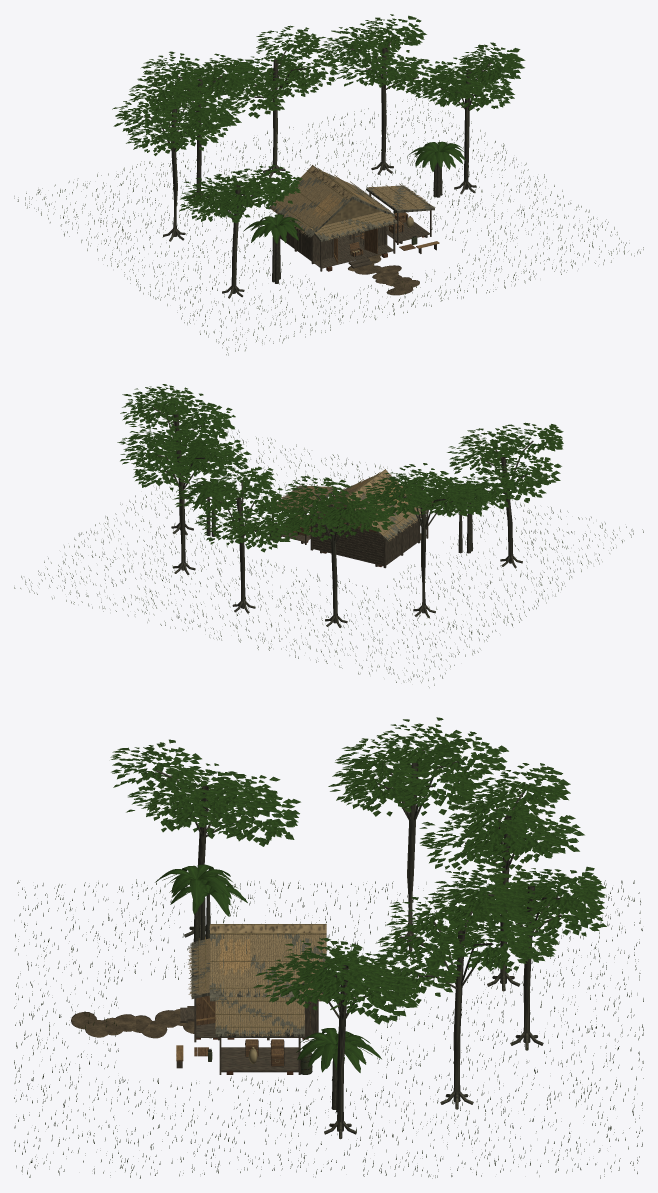
The model's file is C1_SupplyCache.fbx.
The picture shows the model from 3 angles, top to bottom: view 1: azimuth 30°, elevation 25°; view 2: azimuth 150°, elevation 25°; view 3: azimuth 270°, elevation 25°; orthographic projection. The views are drawn at different scales.
Parts seen in each view (by area): view 1: Canopy leaves / Foliage, Grass blades / Grass, Canopy leaves / Foliage.003, Canopy leaves / Foliage.002, Canopy leaves / Foliage.004, Canopy leaves / Foliage.005, Canopy leaves / Foliage.001, Overlapping dry palm leaflets / PalmDry.001, Floor bearer / WeatheredTimber, Foot-worn earth / TrampledEarth, Veined folded leaf / Foliage.001, Veined folded leaf / Foliage (+13 smaller); view 2: Canopy leaves / Foliage.002, Canopy leaves / Foliage.005, Grass blades / Grass, Canopy leaves / Foliage.001, Canopy leaves / Foliage.004, Canopy leaves / Foliage.003, Canopy leaves / Foliage, Floor bearer / WeatheredTimber, Overlapping dry palm leaflets / PalmDry.001, Rough bark trunk / Bark, Rough bark trunk / Bark.001, Rough bark trunk / Bark.003 (+4 smaller); view 3: Canopy leaves / Foliage.003, Canopy leaves / Foliage.005, Canopy leaves / Foliage, Canopy leaves / Foliage.001, Grass blades / Grass, Canopy leaves / Foliage.004, Canopy leaves / Foliage.002, Overlapping dry palm leaflets / PalmDry.002, Overlapping dry palm leaflets / PalmDry.003, Foot-worn earth / TrampledEarth, Veined folded leaf / Foliage, Veined folded leaf / Foliage.001 (+13 smaller).
Part boxes in pixels (bbox=[...]): Canopy leaves / Foliage: bbox=[112, 75, 235, 155]; Grass blades / Grass: bbox=[14, 98, 643, 355]; Canopy leaves / Foliage.003: bbox=[315, 14, 453, 97]; Canopy leaves / Foliage.002: bbox=[205, 25, 340, 118]; Canopy leaves / Foliage.004: bbox=[407, 42, 525, 111]; Canopy leaves / Foliage.005: bbox=[179, 164, 302, 223]; Canopy leaves / Foliage.001: bbox=[141, 51, 256, 134]; Overlapping dry palm leaflets / PalmDry.001: bbox=[269, 170, 352, 234]; Floor bearer / WeatheredTimber: bbox=[280, 226, 387, 268]; Foot-worn earth / TrampledEarth: bbox=[348, 254, 419, 295]; Veined folded leaf / Foliage.001: bbox=[408, 141, 465, 171]; Veined folded leaf / Foliage: bbox=[243, 214, 303, 243]; Canopy leaves / Foliage.002: bbox=[173, 462, 307, 552]; Canopy leaves / Foliage.005: bbox=[447, 422, 563, 509]; Grass blades / Grass: bbox=[14, 430, 643, 687]; Canopy leaves / Foliage.001: bbox=[278, 476, 395, 541]; Canopy leaves / Foliage.004: bbox=[120, 384, 235, 461]; Canopy leaves / Foliage.003: bbox=[117, 432, 251, 490]; Canopy leaves / Foliage: bbox=[364, 463, 491, 518]; Floor bearer / WeatheredTimber: bbox=[310, 518, 420, 568]; Overlapping dry palm leaflets / PalmDry.001: bbox=[354, 474, 421, 541]; Rough bark trunk / Bark: bbox=[396, 487, 452, 617]; Rough bark trunk / Bark.001: bbox=[313, 495, 348, 627]; Rough bark trunk / Bark.003: bbox=[158, 450, 208, 574]; Canopy leaves / Foliage.003: bbox=[371, 875, 558, 1003]; Canopy leaves / Foliage.005: bbox=[110, 739, 300, 846]; Canopy leaves / Foliage: bbox=[328, 717, 508, 816]; Canopy leaves / Foliage.001: bbox=[419, 763, 584, 870]; Grass blades / Grass: bbox=[14, 879, 643, 1178]; Canopy leaves / Foliage.004: bbox=[253, 938, 419, 1024]; Canopy leaves / Foliage.002: bbox=[434, 864, 606, 938]; Overlapping dry palm leaflets / PalmDry.002: bbox=[209, 926, 326, 1001]; Overlapping dry palm leaflets / PalmDry.003: bbox=[215, 997, 304, 1036]; Foot-worn earth / TrampledEarth: bbox=[71, 1009, 211, 1038]; Veined folded leaf / Foliage: bbox=[155, 864, 247, 916]; Veined folded leaf / Foliage.001: bbox=[296, 1028, 381, 1072].
Size of what is drawn, in the model's own units: 3005 by 949 by 2704.
Materials: 21 (21 with a texture image).
